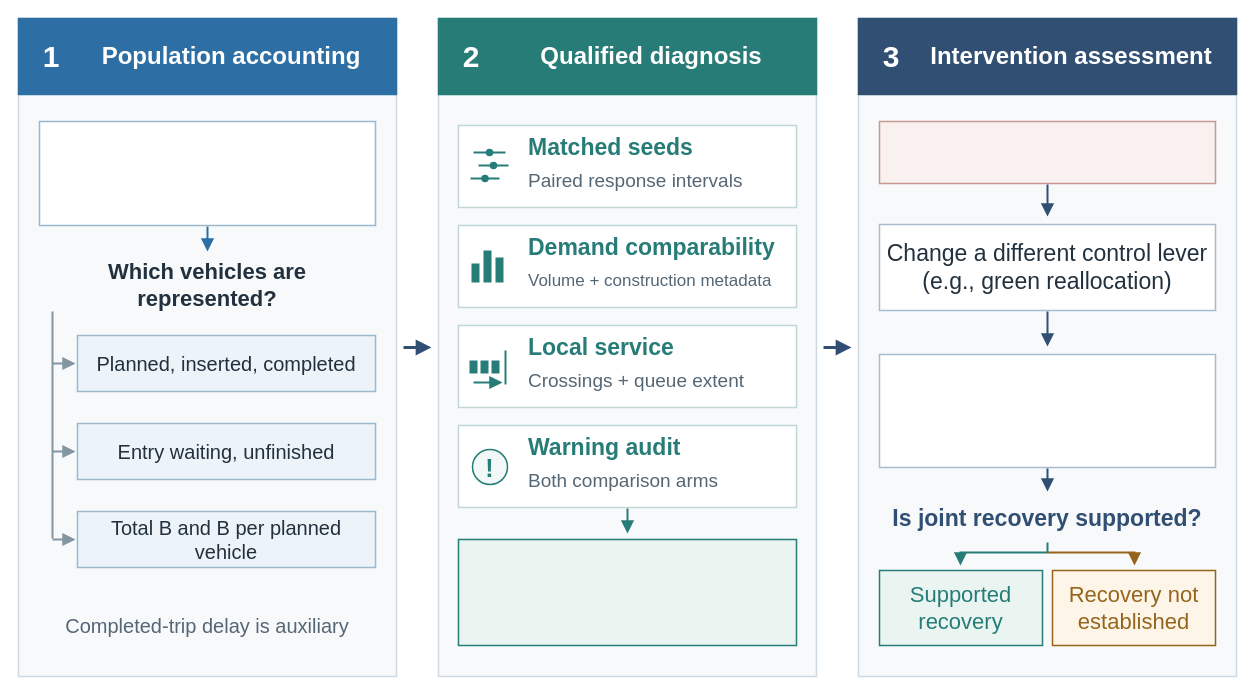
The diagram is 1254 pixels wide and 694 high, and some of its shapes have lost their labels. The box of each missing label's shape, as (x1, y1, x2, y2) in pixels:
Matched-seed comparison Target and donor groups Corridor-wide traffic burden: (878, 353, 1216, 468)
Matched-seed observations Q and traffic burden B: (38, 120, 376, 226)
Operating state Evidence qualifications Interpretation eligibility: (457, 538, 797, 646)
Retain the adverse condition: (878, 120, 1216, 184)
